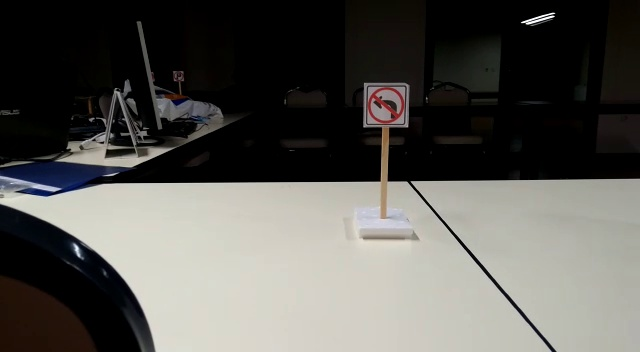sola_donulmez: (364, 87, 404, 124)
